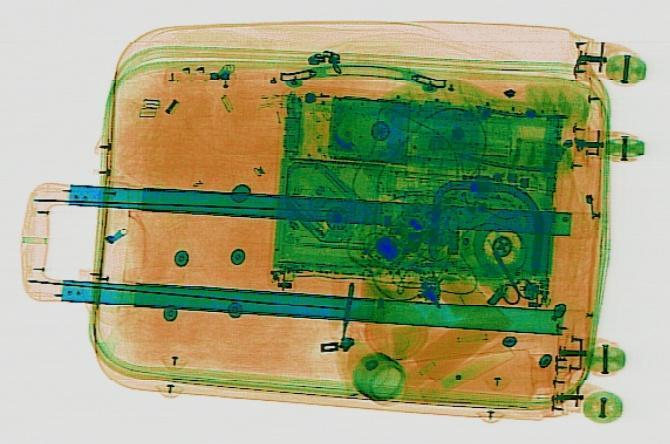Scissors: (471, 239, 543, 306)
